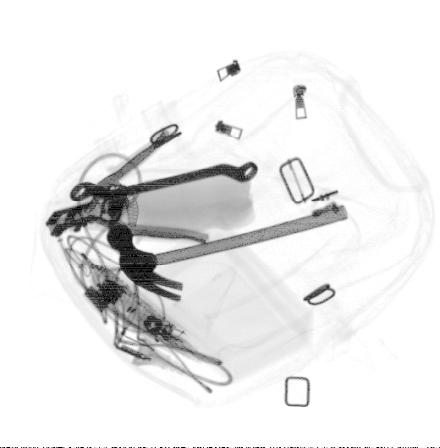Hammer: (106, 202, 349, 303)
Pliers: (48, 123, 216, 246)
Wrench: (67, 161, 258, 203)
